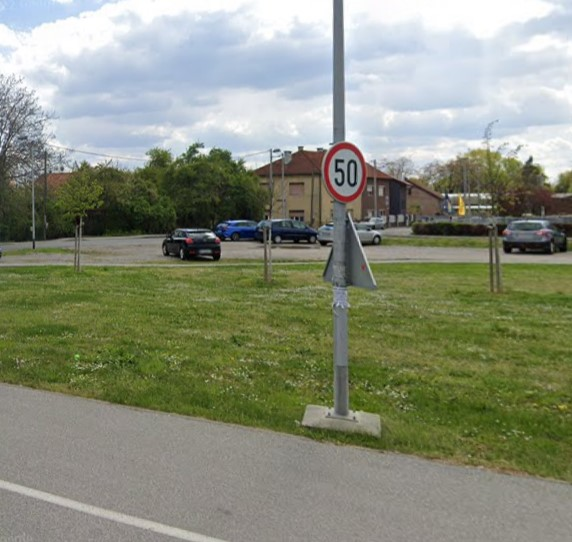Ograničenje brzine 50: (322, 141, 367, 203)
